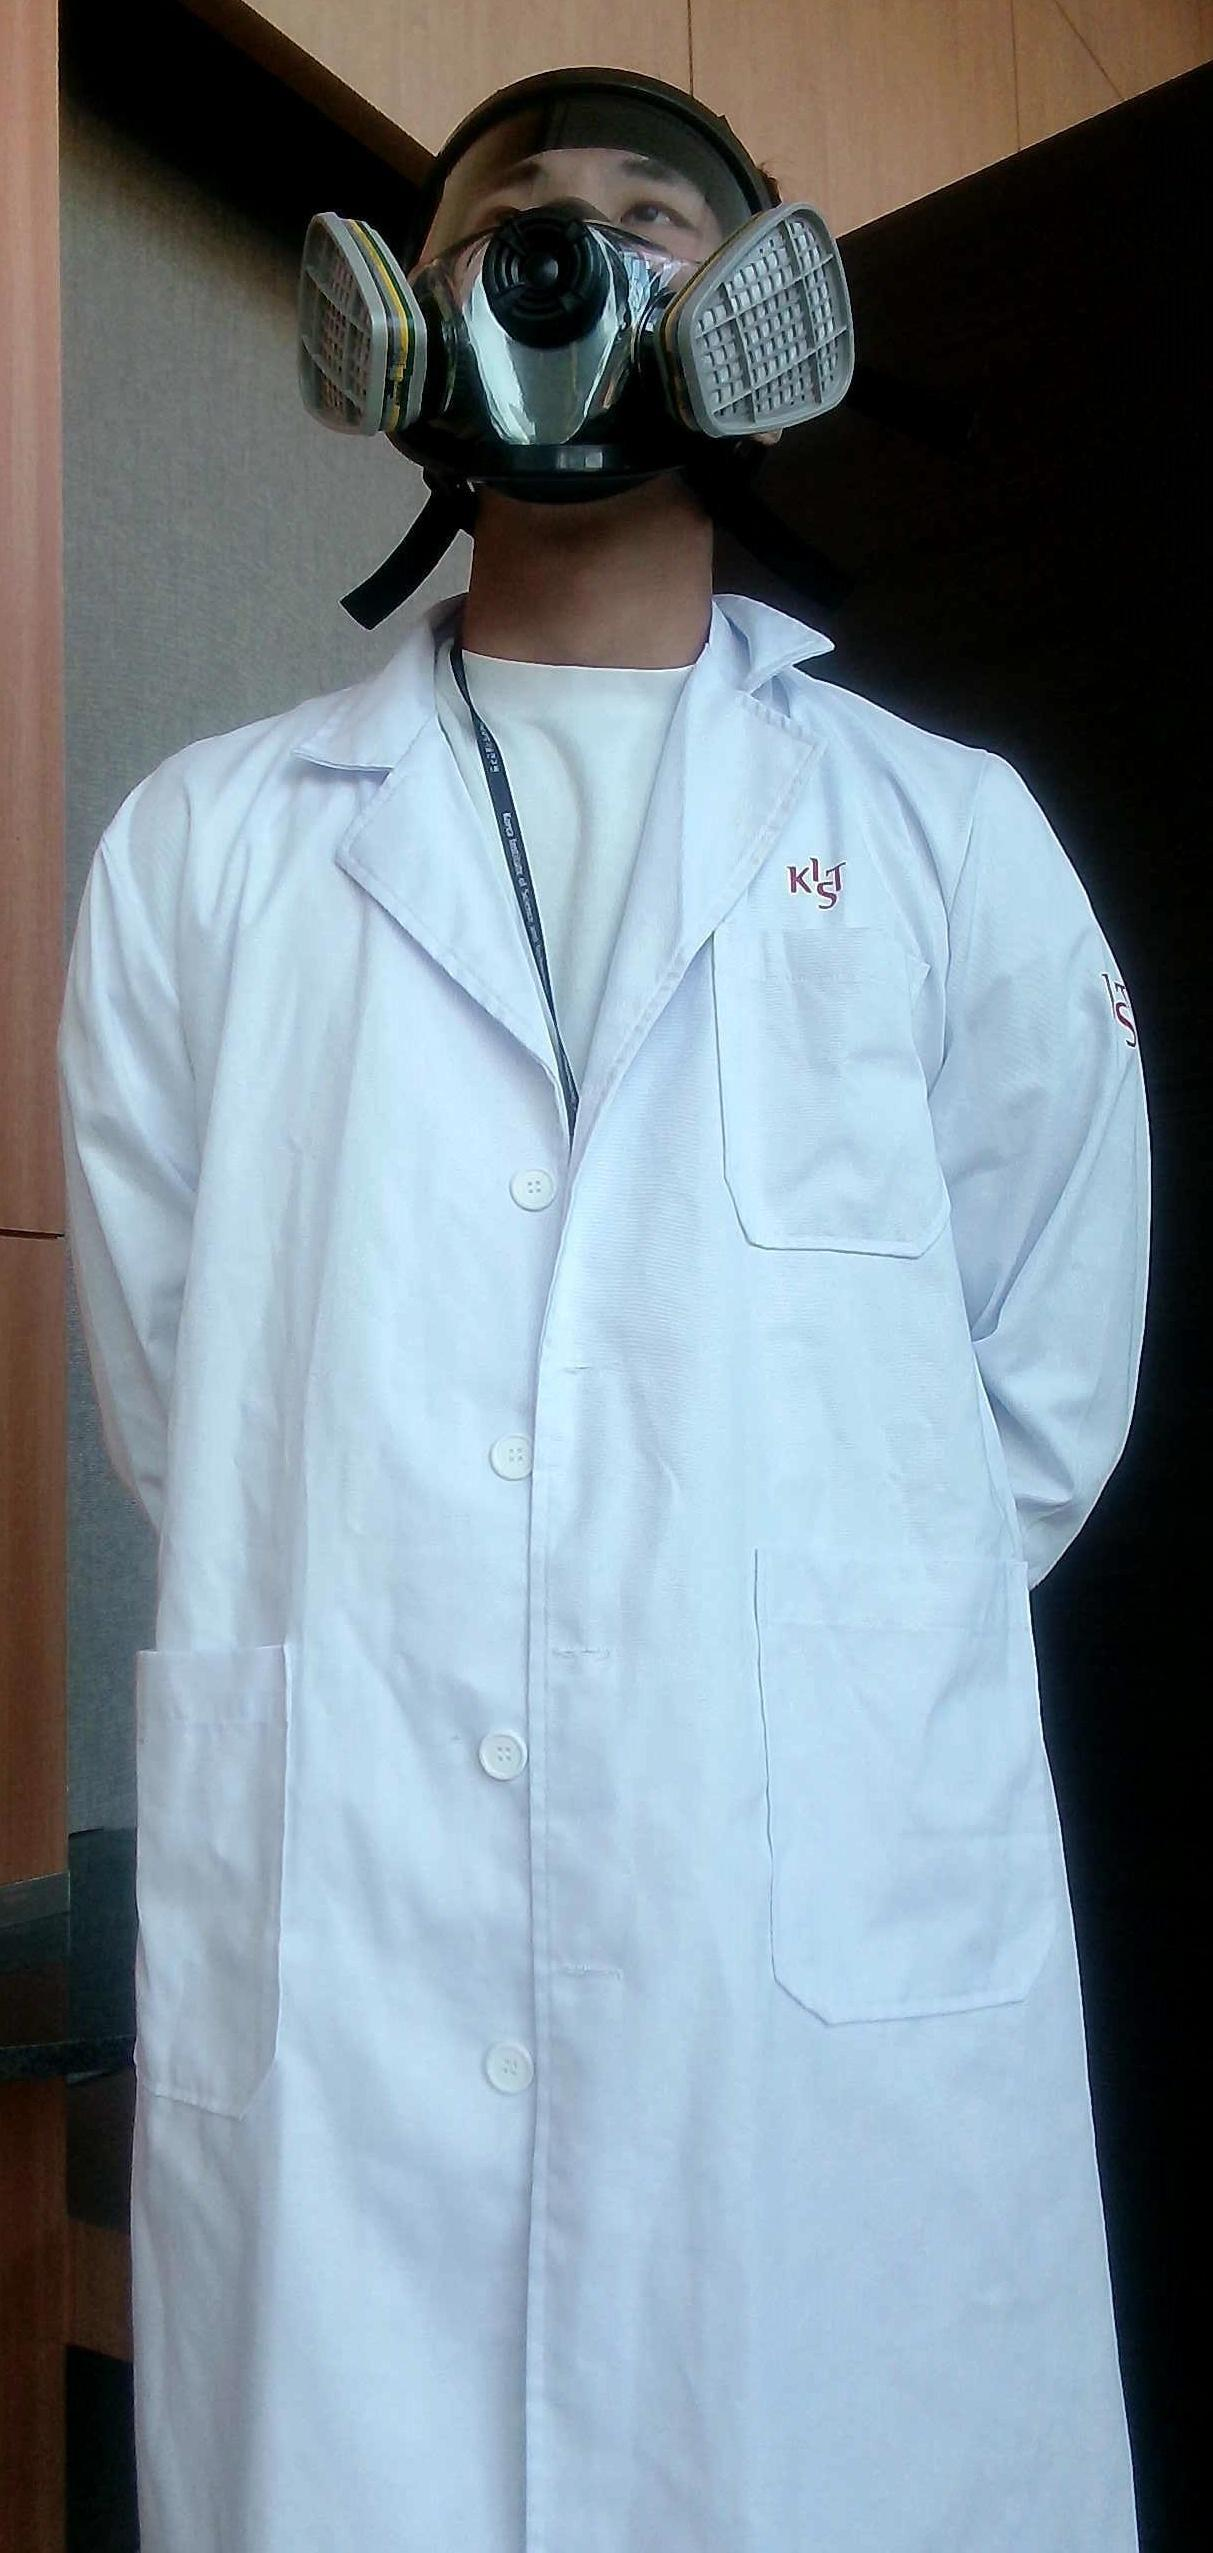lab_coat: (72, 726, 1127, 2553)
